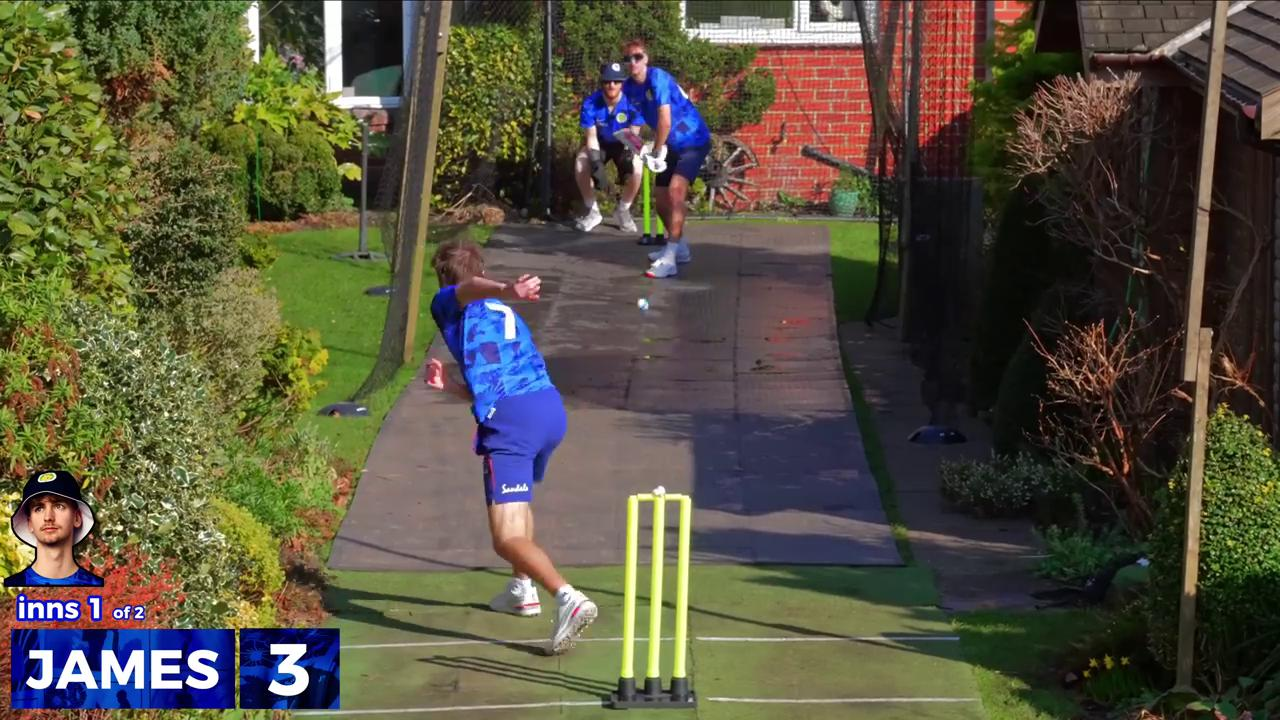ball: (630, 289, 659, 317)
